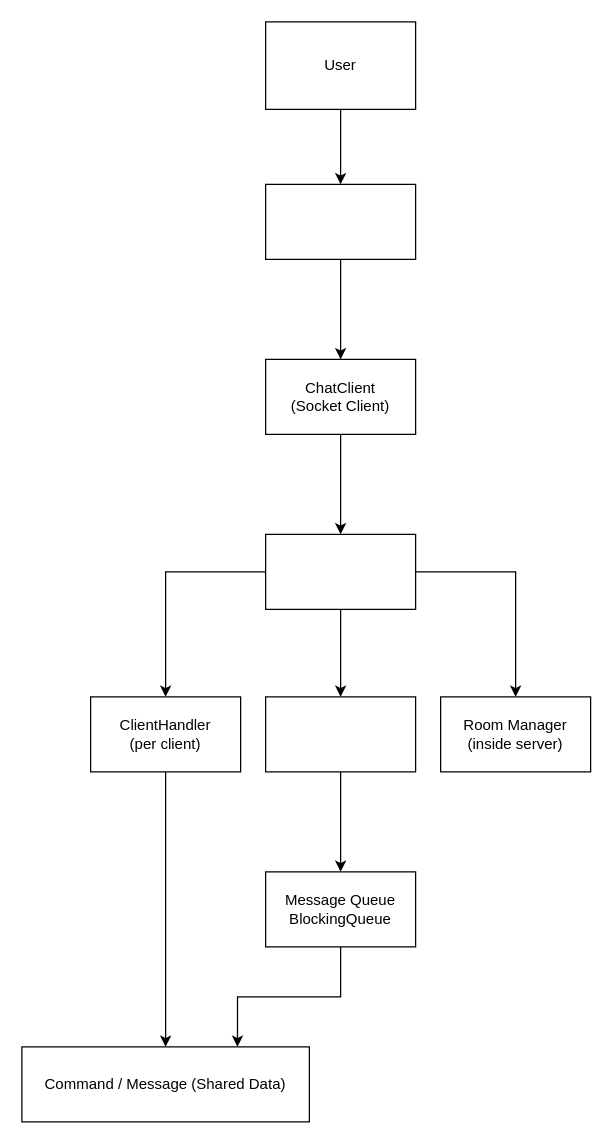
Some shapes in this 613 by 1144 pixel diagram are drawn without their labels. Here are the shapes that lost their labels. From the top down, the centre of each, then its label:
the point at 340,221: ChatApp (GUI) JavaFX Interface
the point at 340,571: ChatServer (Main Server Logic)
the point at 340,734: ChatRoom (Thread + MQ)
